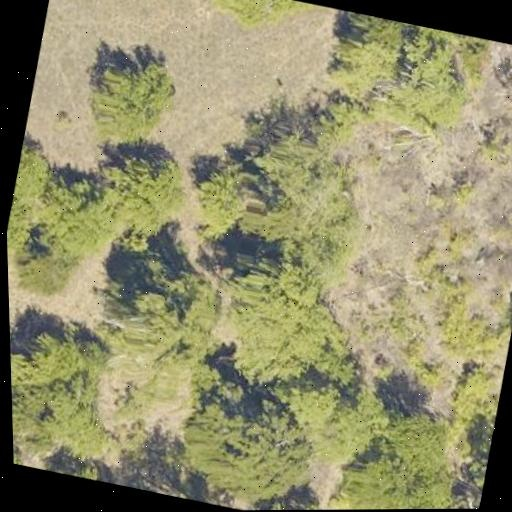tree-top: (237, 106, 383, 270), (212, 253, 375, 398), (167, 379, 329, 510), (327, 396, 477, 510), (9, 311, 118, 441), (114, 259, 237, 374), (74, 42, 189, 151), (83, 138, 196, 247), (382, 29, 484, 146), (22, 162, 123, 267), (183, 152, 254, 242), (324, 31, 397, 110), (430, 294, 510, 365), (197, 0, 307, 42), (443, 357, 506, 422), (132, 475, 244, 511), (16, 244, 78, 308), (11, 126, 57, 204), (43, 454, 119, 485), (6, 192, 39, 258), (12, 400, 42, 467), (253, 492, 332, 510)
